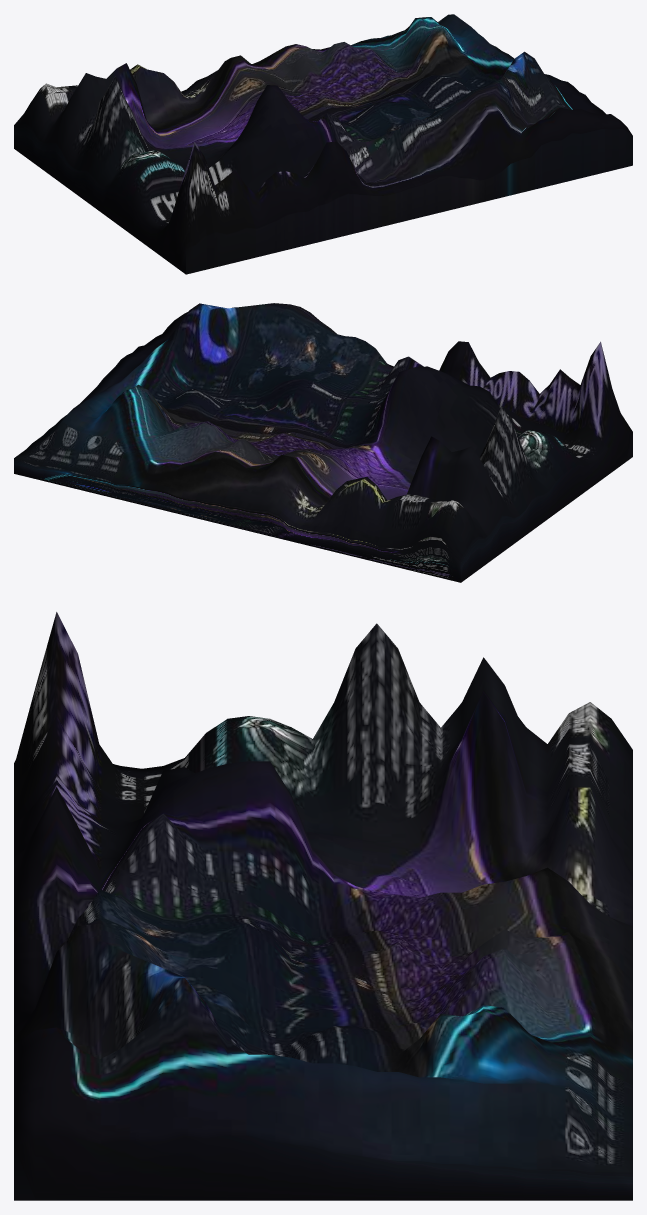
The model's file is CAREER_08_Tool_03_Laptop.glb.
3 renders of one model, top to bottom at view 1: azimuth 30°, elevation 25°; view 2: azimuth 150°, elevation 25°; view 3: azimuth 270°, elevation 25°, orthographic. The views are drawn at different scales.
Parts seen in each view (by area): view 1: CAREER_08_Tool_03_Laptop; view 2: CAREER_08_Tool_03_Laptop; view 3: CAREER_08_Tool_03_Laptop.
Part boxes in pixels (left/top/right/bottom): CAREER_08_Tool_03_Laptop: left=14, top=14, right=632, bottom=274; CAREER_08_Tool_03_Laptop: left=14, top=303, right=632, bottom=582; CAREER_08_Tool_03_Laptop: left=14, top=612, right=632, bottom=1200.
Size of the model in its own units: 2 by 0.51 by 1.33.
1 material, 1 textured.
